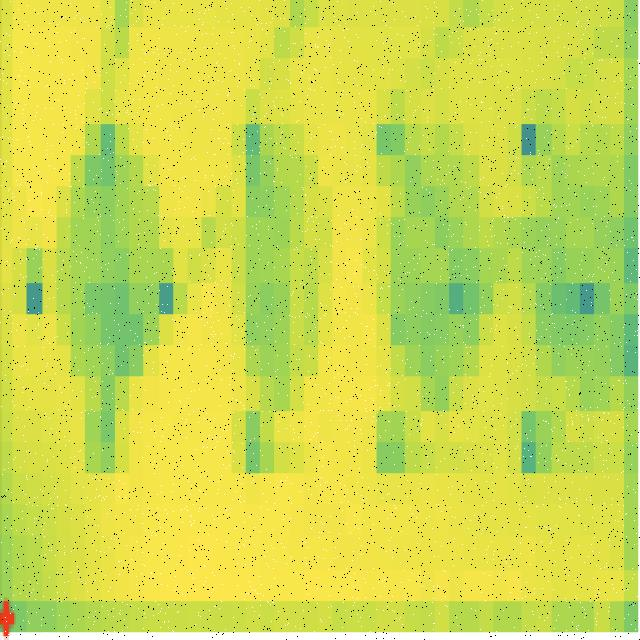Concrete: (62, 125, 162, 417)
Glass: (522, 123, 624, 443)
Metal: (231, 127, 325, 409)
Wood: (378, 125, 489, 411)
